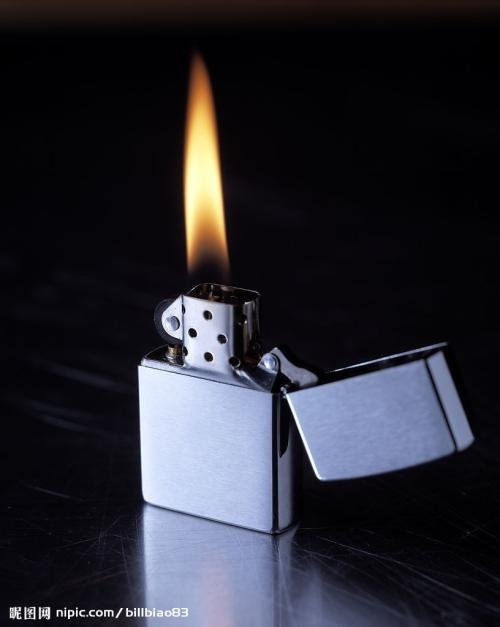fire: (178, 42, 233, 285)
